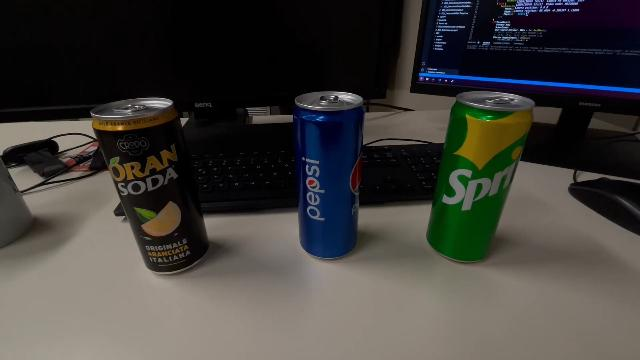OranSoda: (88, 96, 214, 280)
Pepsi: (290, 89, 368, 265)
Sprite: (422, 87, 538, 267)
